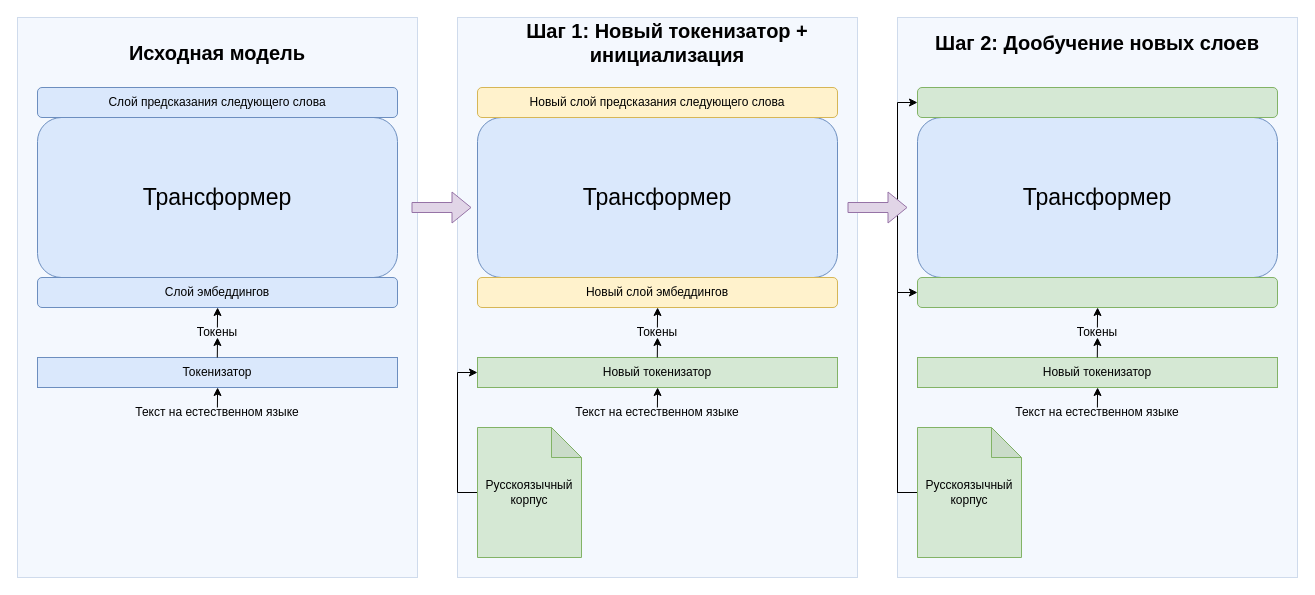
The diagram is 1315 pixels wide and 595 high, and some of its shapes have lost their labels. The centre of each missing label's shape, as x and y in pixels:
Новый слой предсказания следующего слова (обученный): the point at 1097,102
Новый слой эмбеддингов (обученный): the point at 1097,292
